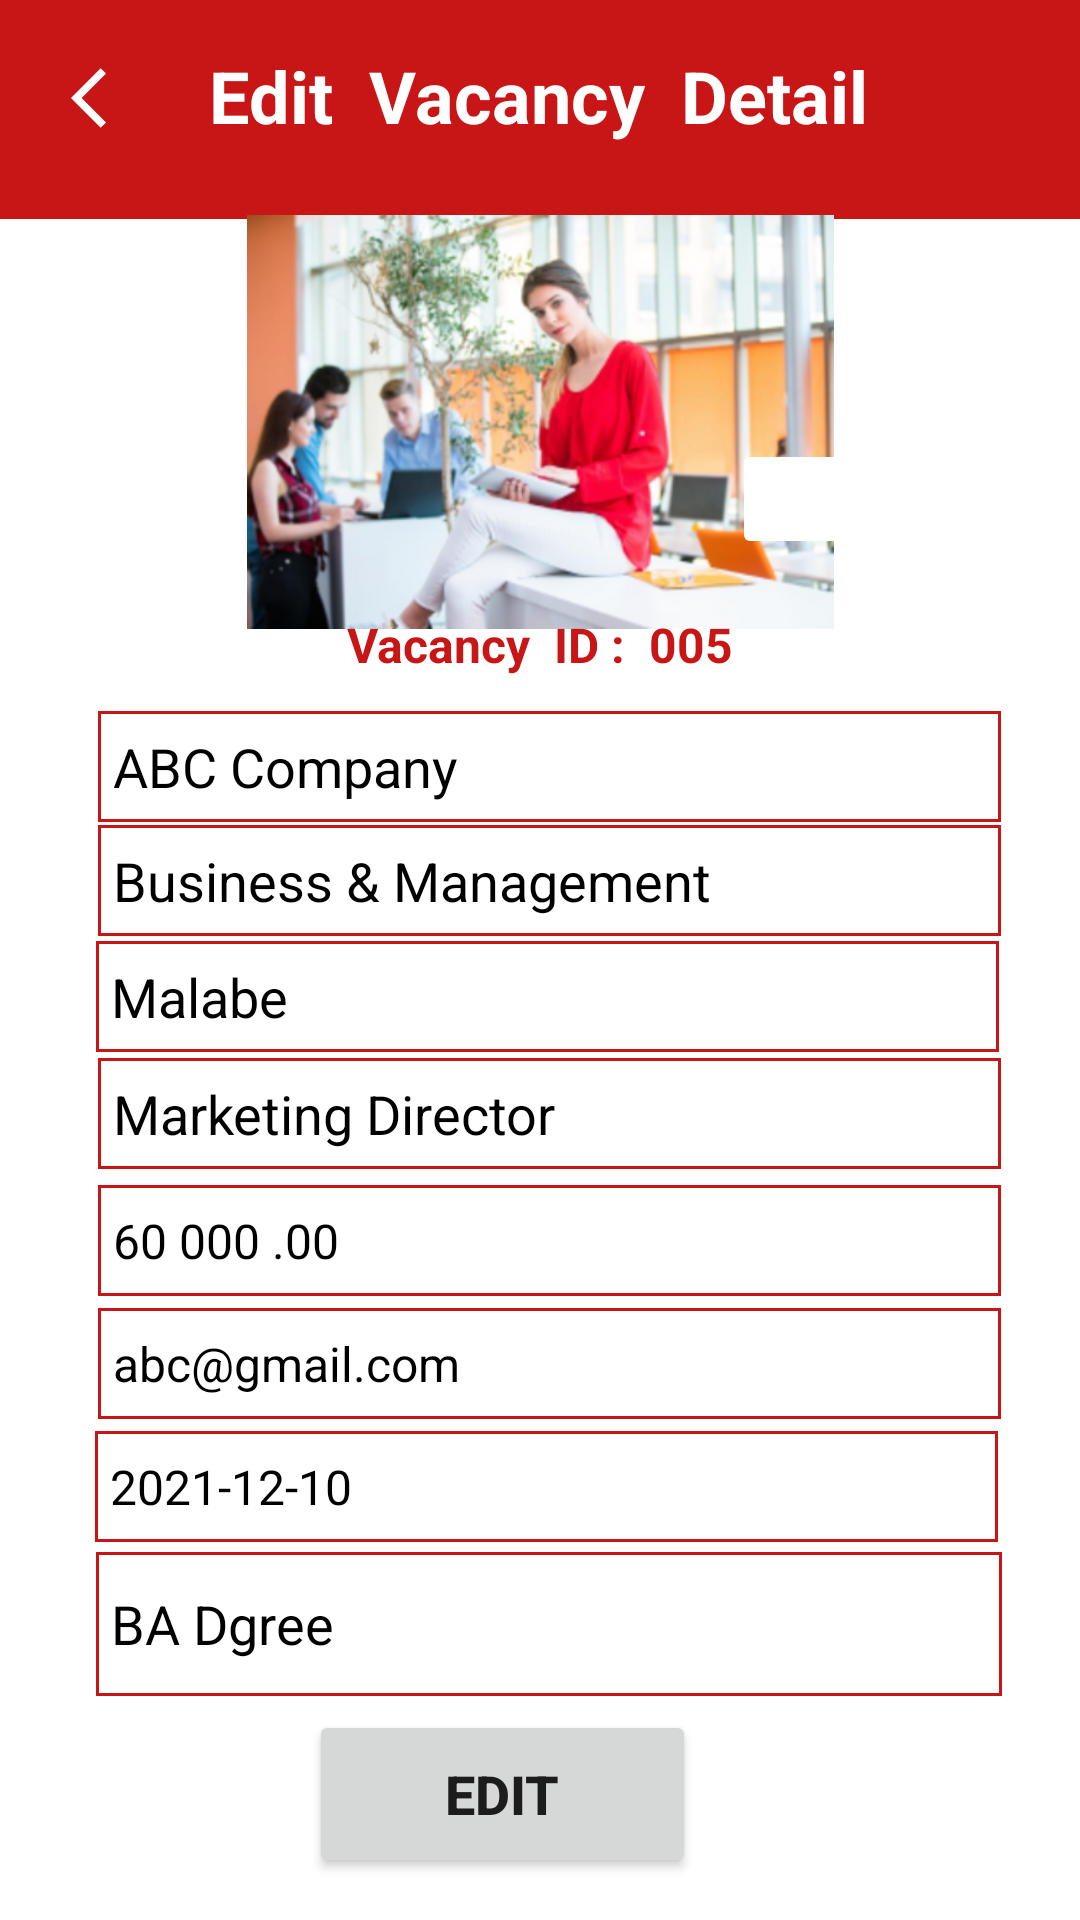

Where icons sit on this 1080px x 1920px app screen, as (x1, y1, x2, y2):
arrow back: (71, 68, 106, 128)
